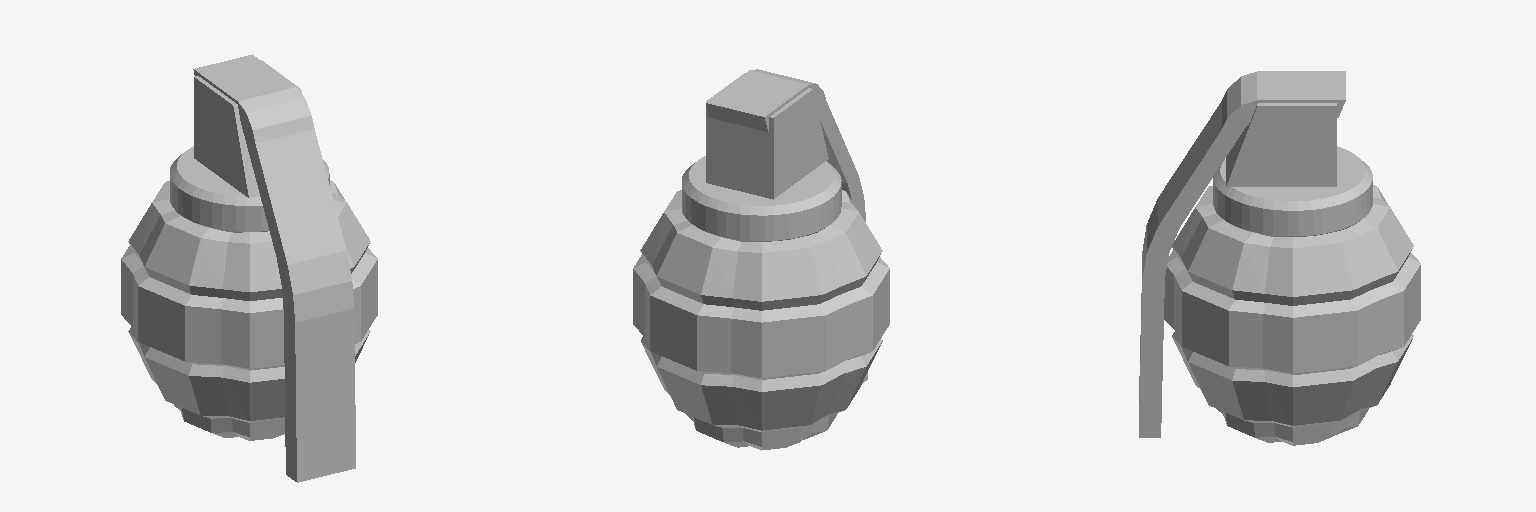
The model's file is grenade.obj.
The picture shows the model from 3 angles: view 1: azimuth 30°, elevation 25°; view 2: azimuth 150°, elevation 25°; view 3: azimuth 270°, elevation 25°; orthographic projection.
Visible parts, largest first — view 1: pCylinder4; view 2: pCylinder4; view 3: pCylinder4.
Part boxes in pixels (x1,y1,x2,y2): pCylinder4: (121,54,377,482); pCylinder4: (633,69,889,450); pCylinder4: (1139,71,1420,445).
Bounding box in the file's own units: 2 × 2.92 × 2.2.